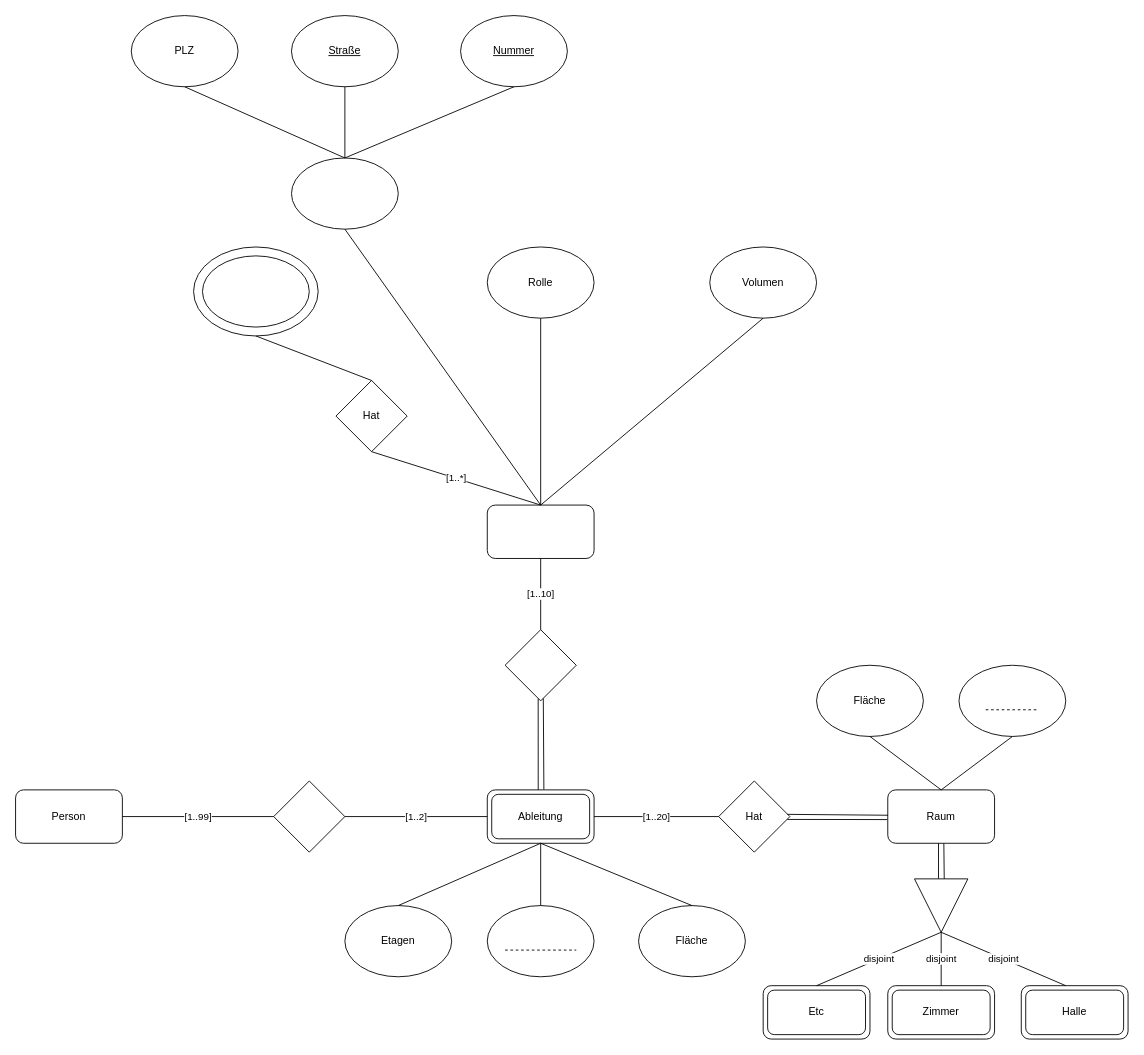
This 1144x1055 diagram has some shape labels left out. The shapes that lost their labels are listed below. From the top down, each one's centre as x and y in pixels, then its label:
At (x=344, y=193): "Adresse".
At (x=255, y=291): "Besitzer".
At (x=540, y=531): "Gebäude".
At (x=540, y=665): "Enthält".
At (x=1012, y=700): "RaumID".
At (x=309, y=816): "Beitreten".
At (x=941, y=905): "ISA".
At (x=540, y=941): "AbleitungsID".
